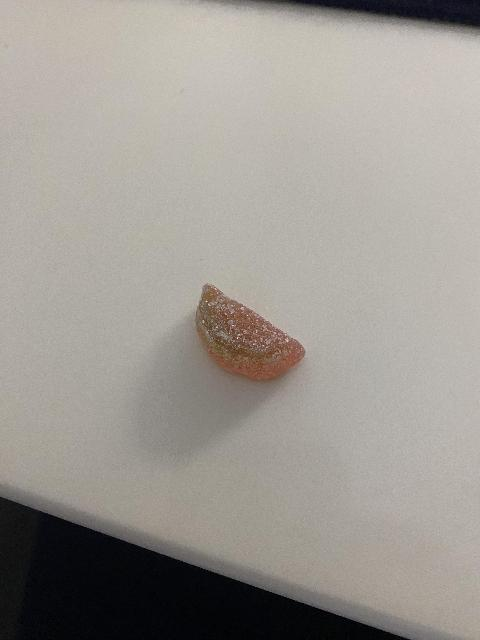Organik: (197, 275, 314, 386)
